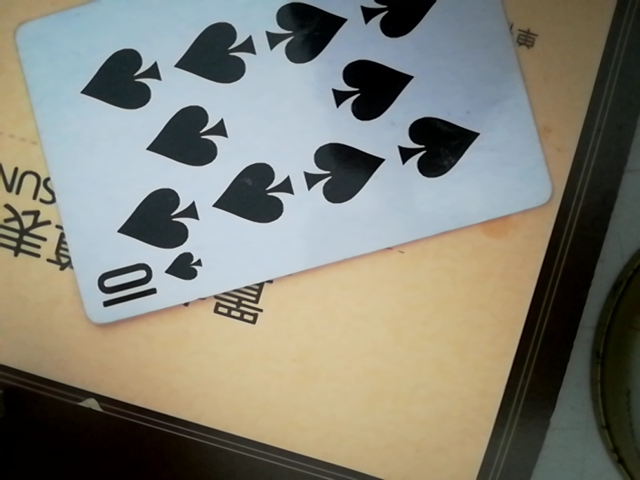ht 10: (14, 4, 553, 332)
